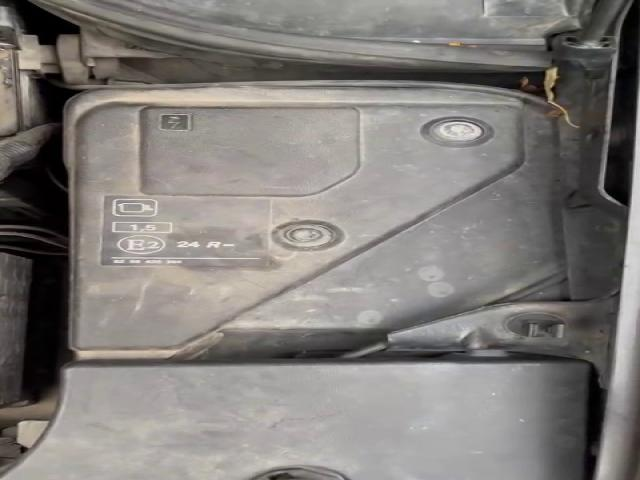fuse_box: (75, 106, 555, 350)
